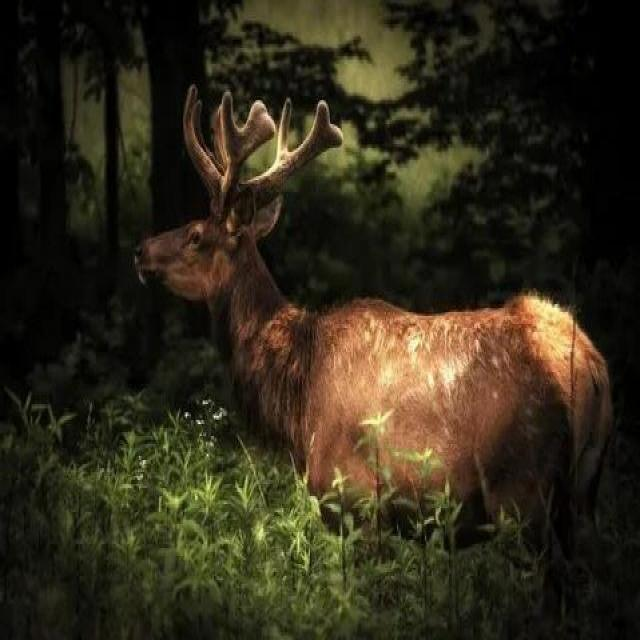deer: (145, 73, 628, 598)
